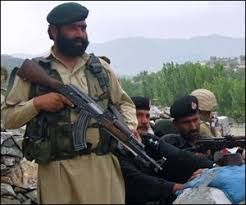gun: (4, 51, 165, 167), (178, 124, 246, 152)
